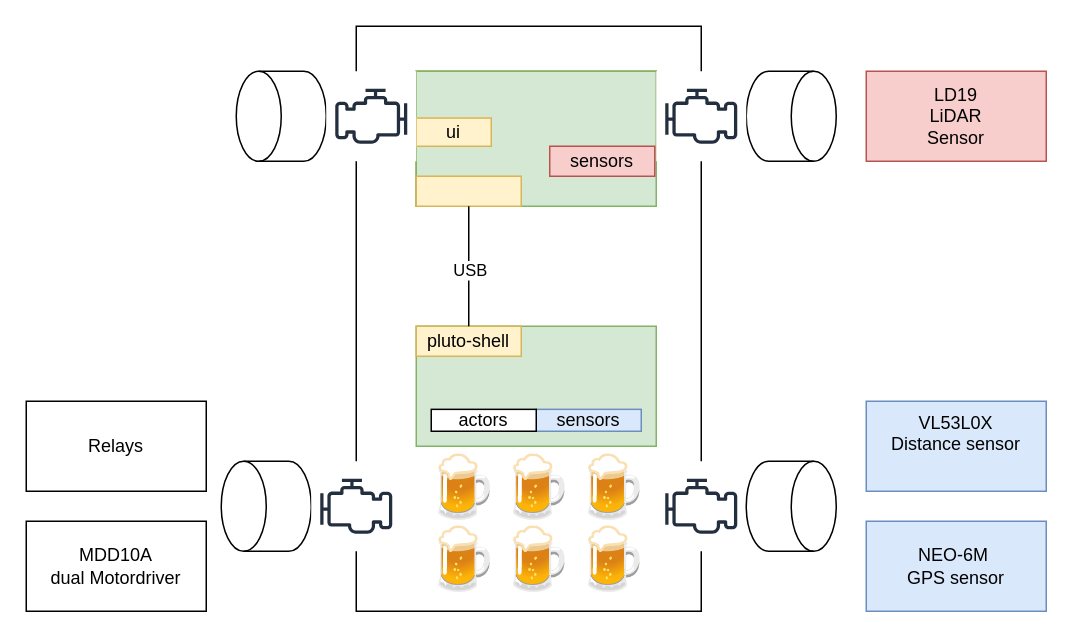
Image size: 1073x638. Some labels were removed from this diagram. The shapes that lost their labels are listed below. From the top down, each one's box as (x1, y1, x2, y2) in pixels, then its label:
(415, 70, 656, 206): pluto_ros2
(415, 175, 521, 206): pico-control
(415, 325, 656, 446): pluto_pico
